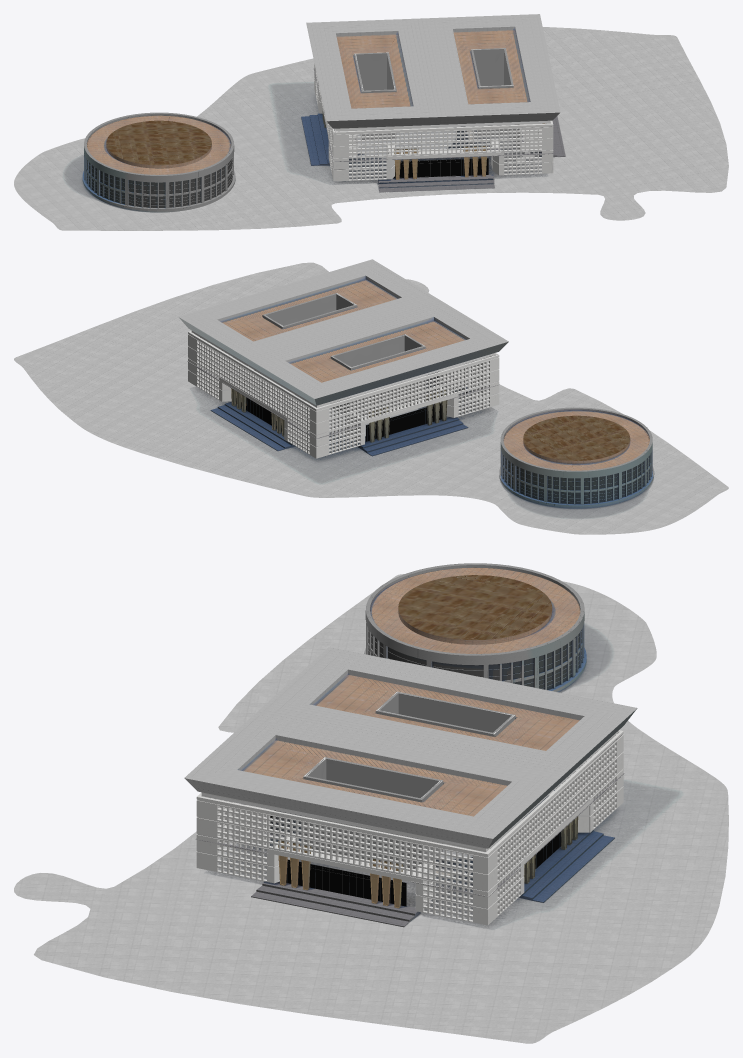
The model's file is target2.glb.
The picture shows the model from 3 angles, top to bottom: view 1: azimuth 30°, elevation 25°; view 2: azimuth 150°, elevation 25°; view 3: azimuth 270°, elevation 25°; orthographic projection. The views are drawn at different scales.
Parts seen in each view (by area): view 1: 图形001, 纹理, 会议中心000, 白框, 纯色; view 2: 图形001, 纹理, 白框, 会议中心000, 纯色; view 3: 图形001, 纹理, 白框, 会议中心000, 纯色.
Boxes of the visible parts, bbox=[...] form: 图形001: bbox=[14, 27, 728, 230]; 纹理: bbox=[301, 14, 565, 192]; 会议中心000: bbox=[82, 112, 235, 212]; 白框: bbox=[313, 48, 553, 181]; 纯色: bbox=[322, 111, 544, 182]; 图形001: bbox=[14, 262, 728, 534]; 纹理: bbox=[178, 259, 508, 456]; 白框: bbox=[187, 293, 499, 458]; 会议中心000: bbox=[499, 407, 654, 508]; 纯色: bbox=[231, 371, 455, 442]; 图形001: bbox=[14, 574, 728, 1043]; 纹理: bbox=[184, 647, 637, 927]; 白框: bbox=[195, 691, 624, 925]; 会议中心000: bbox=[364, 563, 586, 692]; 纯色: bbox=[270, 810, 578, 908].
Bounding box in the file's own units: 331 × 34.09 × 213.
5 materials, 5 textured.
